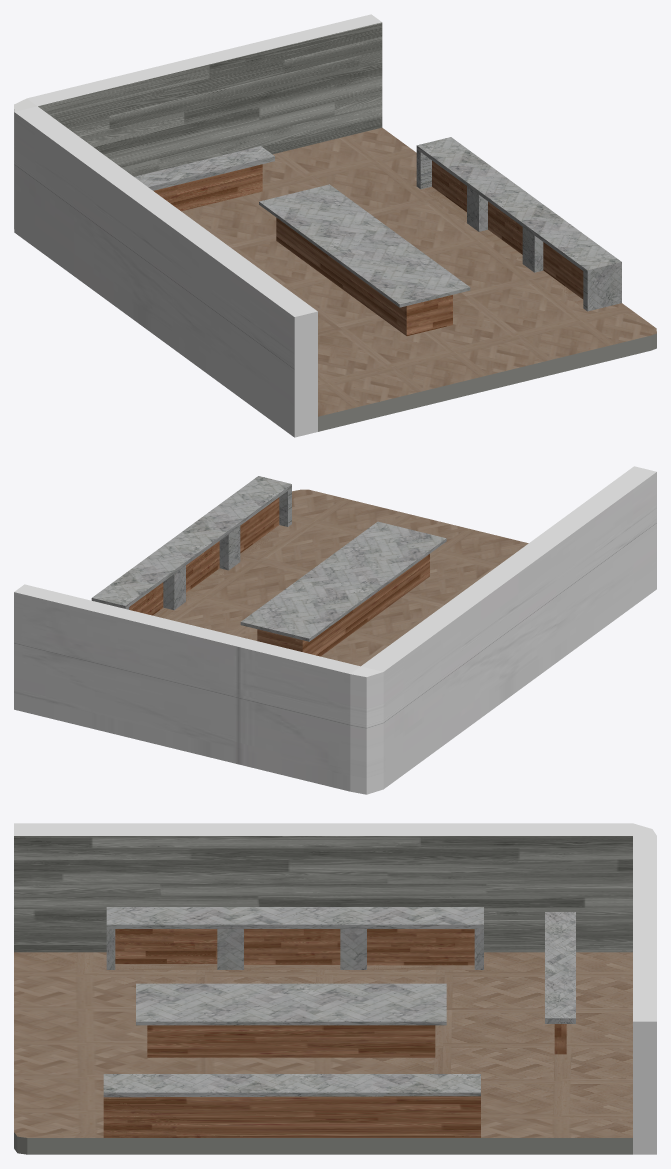
The model's file is store3d1.glb.
The picture shows the model from 3 angles, top to bottom: view 1: azimuth 30°, elevation 25°; view 2: azimuth 150°, elevation 25°; view 3: azimuth 270°, elevation 25°; orthographic projection. The views are drawn at different scales.
Parts seen in each view (by area): view 1: Cube; view 2: Cube; view 3: Cube.
Part boxes in pixels (x1=…): Cube: x1=14, y1=14, x2=656, y2=437; Cube: x1=14, y1=466, x2=656, y2=794; Cube: x1=14, y1=823, x2=656, y2=1154.
Bounding box in the file's own units: 21.57 × 6.81 × 29.55.
5 materials, 5 textured.
